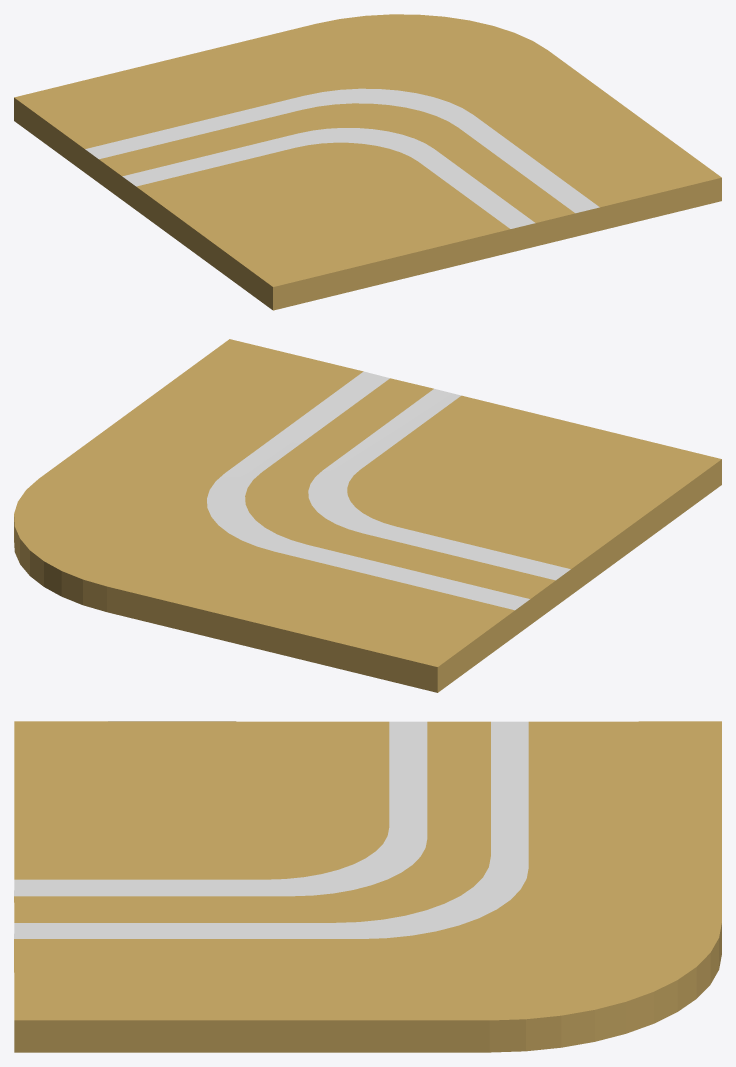
Rendered from tile_corner_wall_test.fbx.
3 views of the same model, one above another, from view 1: azimuth 30°, elevation 25°; view 2: azimuth 150°, elevation 25°; view 3: azimuth 270°, elevation 25° (orthographic). The views are drawn at different scales.
Parts seen in each view (by area): view 1: Plane.024; view 2: Plane.024; view 3: Plane.024.
Boxes of the visible parts, bbox=[...] form: Plane.024: bbox=[14, 14, 721, 310]; Plane.024: bbox=[14, 339, 721, 692]; Plane.024: bbox=[14, 721, 721, 1052].
Size of the model in its own units: 100 by 5.03 by 100.
